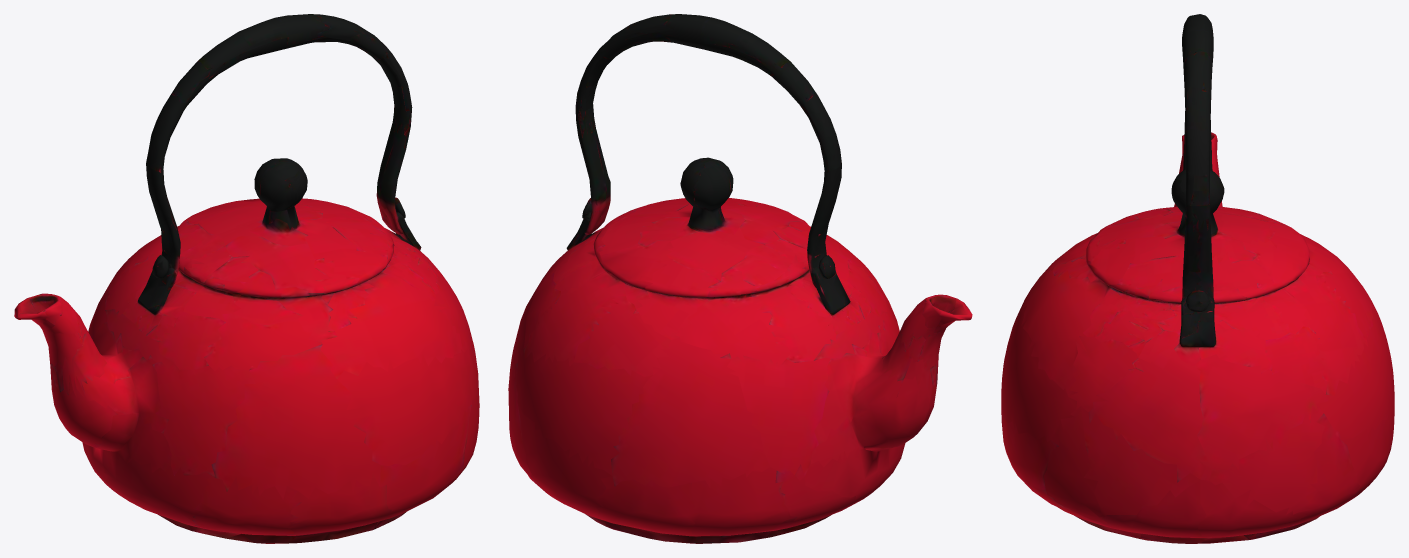
File: kettle.glb
3 views of the same model, side by side, from view 1: azimuth 30°, elevation 25°; view 2: azimuth 150°, elevation 25°; view 3: azimuth 270°, elevation 25° (orthographic).
Size of the model in its own units: 1.88 by 1.9 by 1.49.
1 material, 1 textured.
